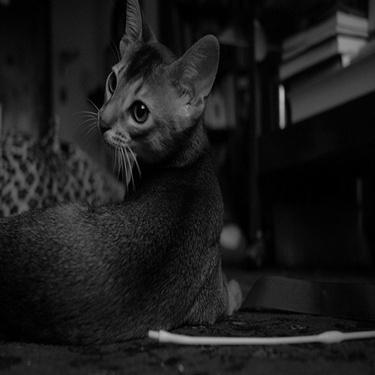cat: (6, 8, 238, 351)
